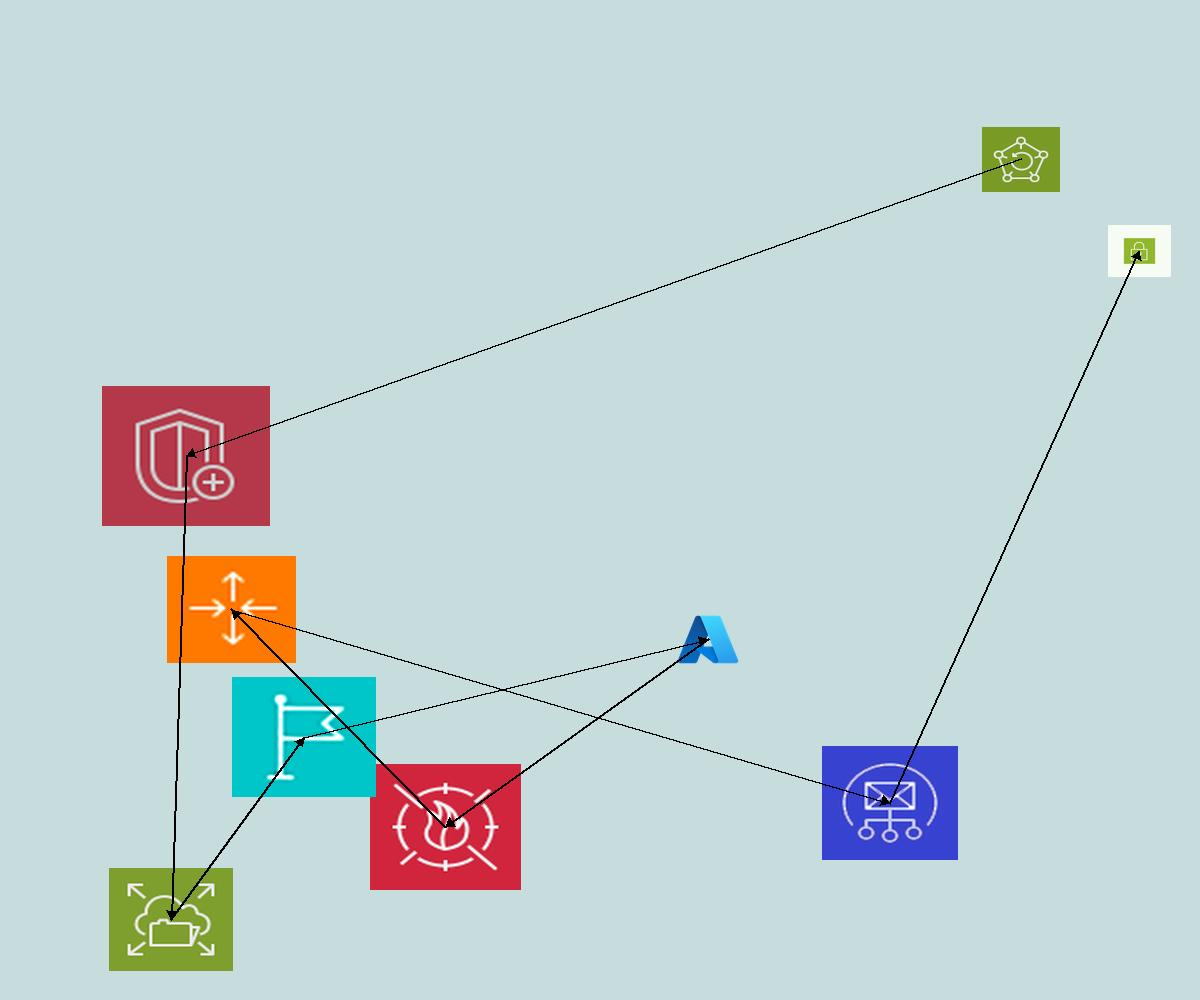AWS-Backup: (982, 127, 1060, 192)
AWS-EFS: (109, 868, 233, 971)
AWS-Public-subnet: (1108, 225, 1171, 277)
AWS-Region: (232, 677, 376, 797)
AWS-Scaling-group: (167, 556, 296, 663)
AWS-Shield: (102, 386, 270, 526)
AWS-Simple-Email-Service: (822, 746, 958, 860)
AWS-WAF: (370, 764, 521, 890)
Azure_services: (675, 612, 741, 667)
